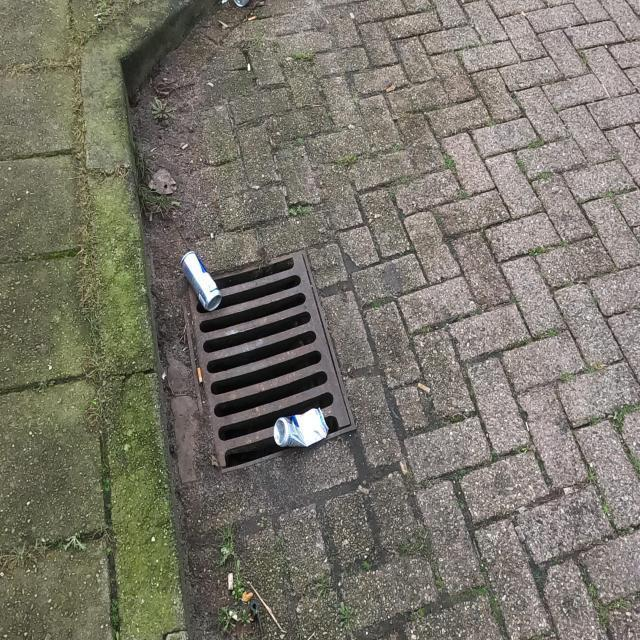Can-Metal: (179, 250, 223, 312), (272, 406, 330, 449)
